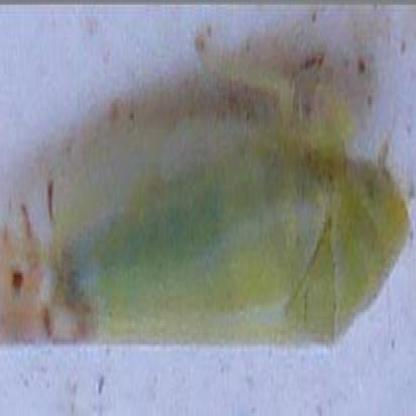green-leafhopper: (3, 133, 406, 349)
